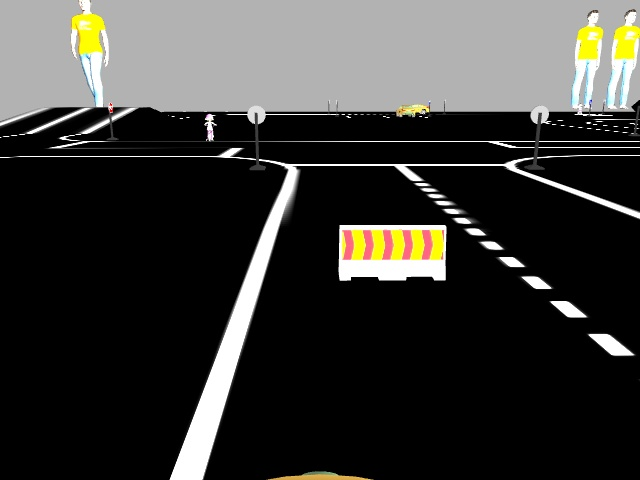ClosedRoadStand: (339, 225, 446, 279)
